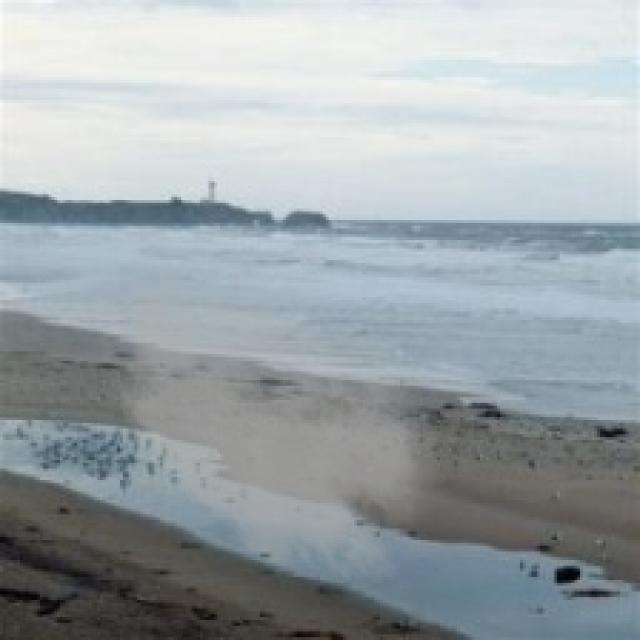smoke: (74, 203, 460, 594)
